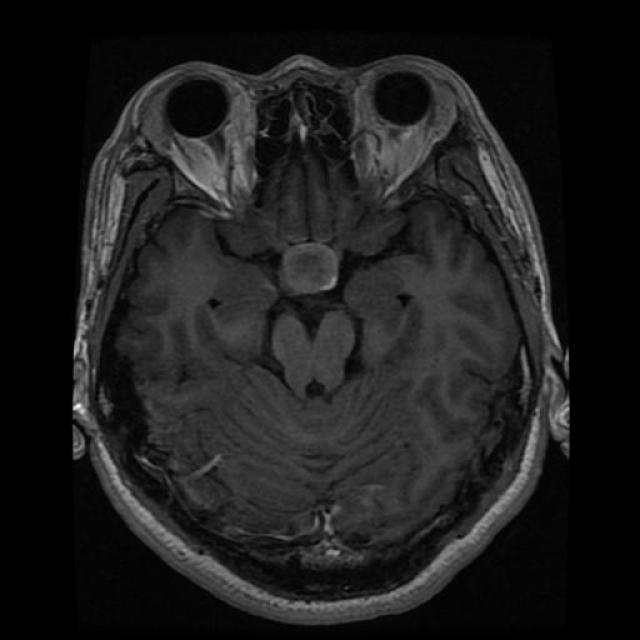pituitary: (252, 208, 348, 314)
